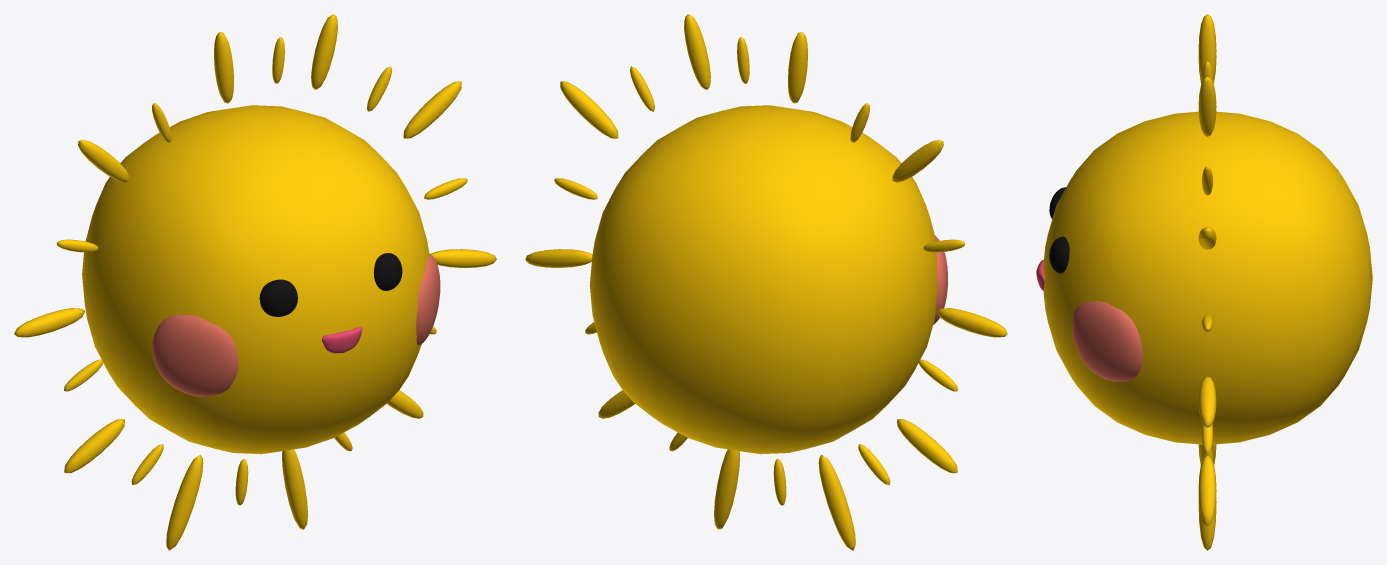
The model's file is sun.glb.
The picture shows the model from 3 angles, left to right: view 1: azimuth 30°, elevation 25°; view 2: azimuth 150°, elevation 25°; view 3: azimuth 270°, elevation 25°; orthographic projection. The views are drawn at different scales.
Visible parts, largest first — view 1: Sun, Ray, Blush, Eyes, Mouth; view 2: Sun, Ray, Blush; view 3: Sun, Ray, Blush, Eyes.
Boxes of the visible parts, left/top/right/bottom form: Sun: left=82, top=105, right=429, bottom=454; Ray: left=14, top=14, right=496, bottom=550; Blush: left=152, top=253, right=440, bottom=396; Eyes: left=259, top=253, right=402, bottom=316; Mouth: left=322, top=327, right=362, bottom=353; Sun: left=589, top=105, right=937, bottom=454; Ray: left=525, top=14, right=1007, bottom=550; Blush: left=933, top=235, right=947, bottom=324; Sun: left=1043, top=111, right=1372, bottom=444; Ray: left=1198, top=14, right=1216, bottom=550; Blush: left=1072, top=301, right=1143, bottom=381; Eyes: left=1049, top=187, right=1069, bottom=273.
Bounding box in the file's own units: 1.21 × 1.24 × 0.7606.
